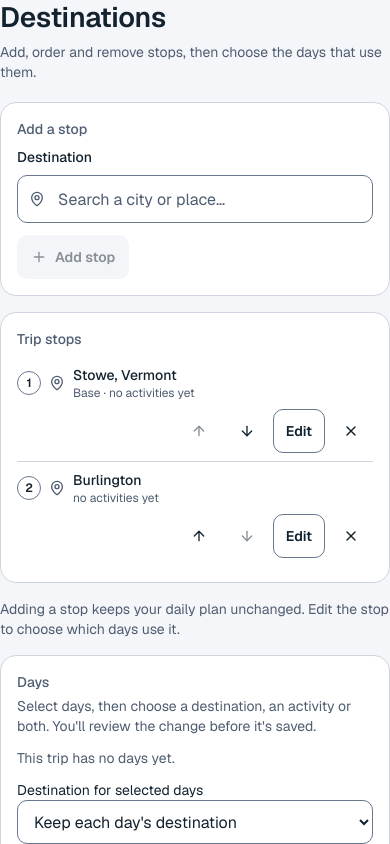
Test: Destinations after creation › locks date and activity selections to the submitted snapshot while saving
Expected: the text "Burlington" is shown, [73,471,141,489]
Click the button "Edit" below "Burlington". click: point(299, 536)
box: [273,514,325,558]
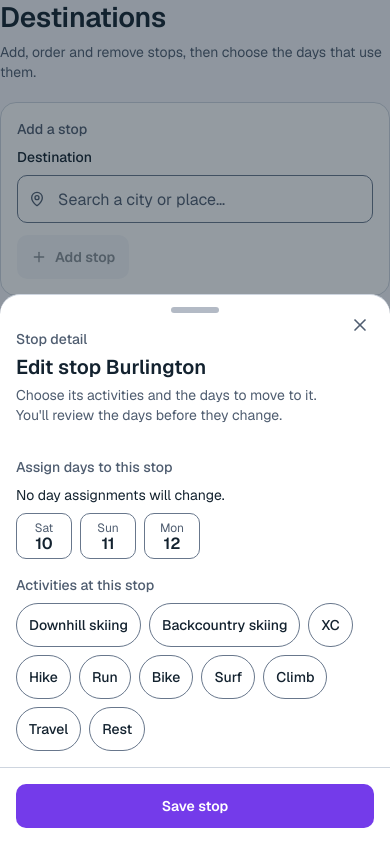
Expected: the button with aria-label "Sunday, October 11" is enabled
Click the button with aria-label "Sunday, October 11". click: point(108, 536)
box: [80,513,136,559]
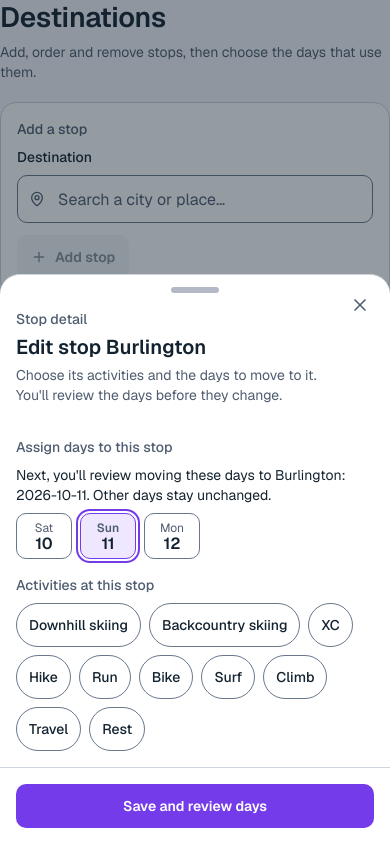
Click the button "Downhill skiing". click: point(78, 625)
box: [16,603,141,647]
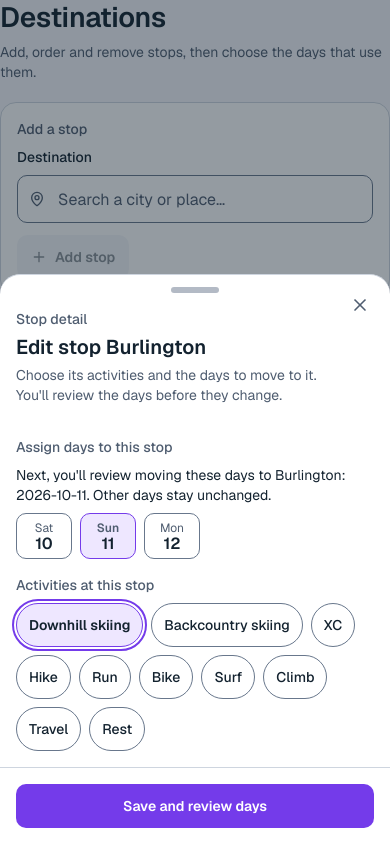
Click the button "Save and review days". click: point(195, 806)
box: [16,784,374,828]
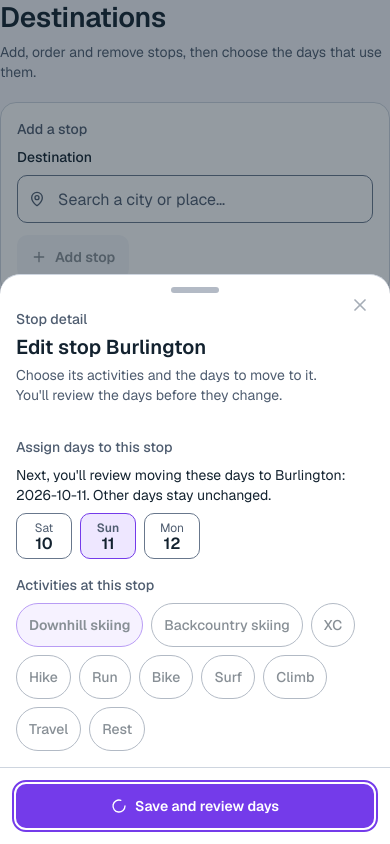
Expected: the button with aria-label "Sunday, October 11" is disabled, [80,513,136,559]
Expected: the button "Downhill skiing" is disabled, [16,603,143,647]
Expected: the button "Hike" is disabled, [16,655,71,699]
Click the button with aria-label "Monday, October 12". click: point(172, 536)
box: [144,513,200,559]
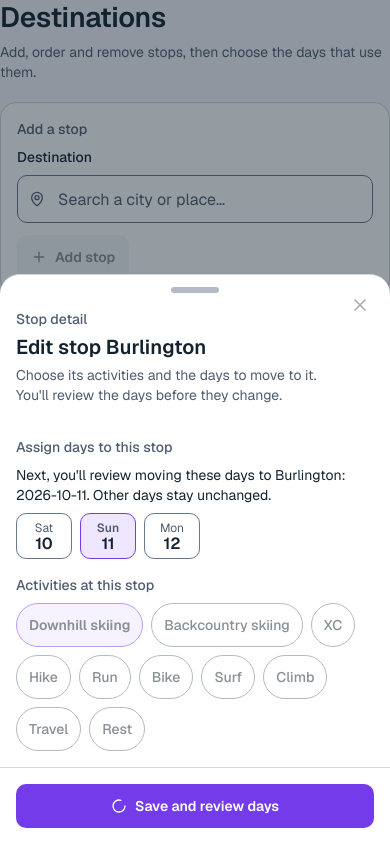
Click the button "Hike". click: point(43, 677)
box: [16,655,71,699]
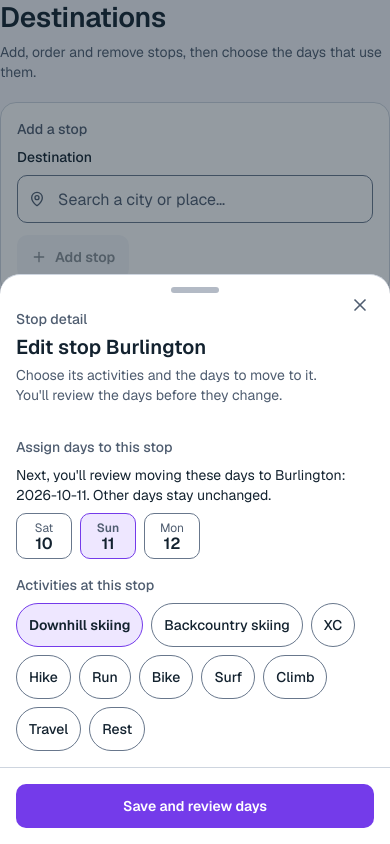
Expected: the button with aria-label "Sunday, October 11" is enabled, [80,513,136,559]
Expected: the button "Downhill skiing" is enabled, [16,603,143,647]
